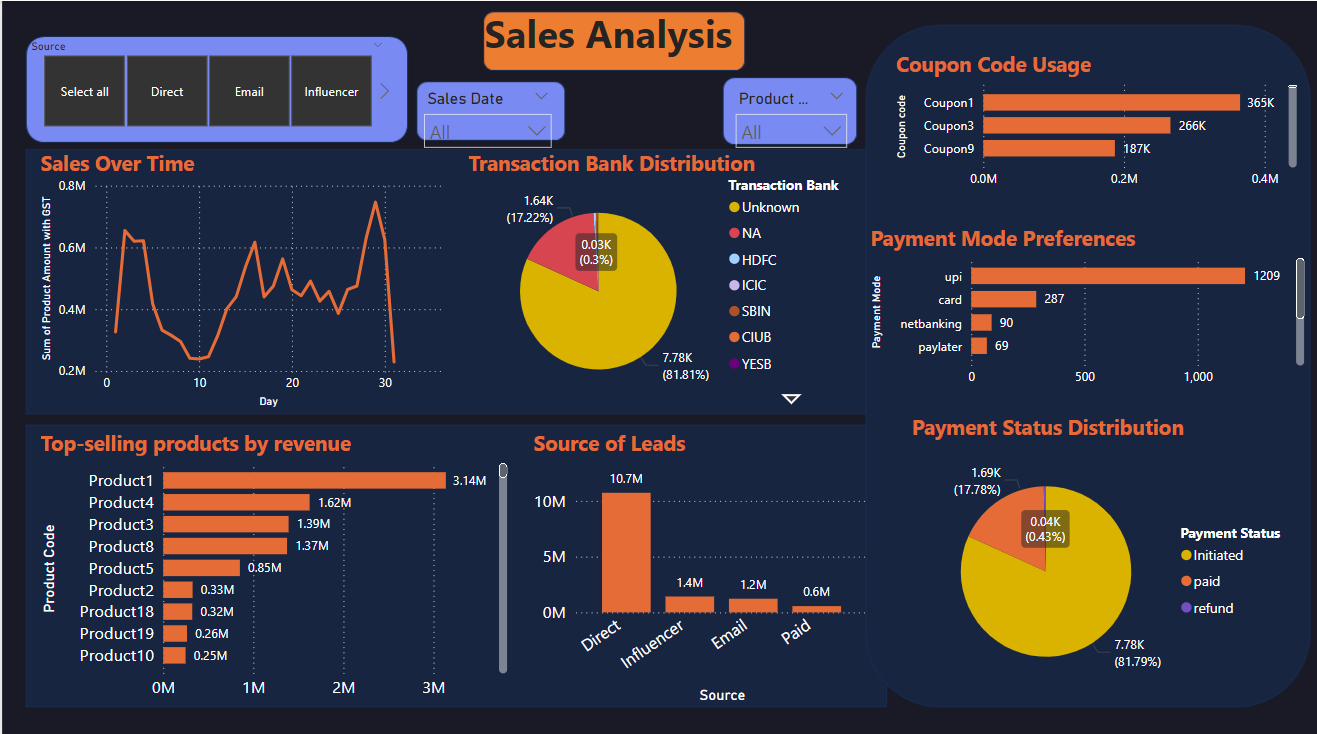

The dashboard page shown, as its layout file describes it:
{"tool":"powerbi","page":{"name":"Sales Data","canvas":[1280,720],"ordinal":0},"visuals":[{"type":"clusteredBarChart","title":"Top-selling products by revenue","fields":{"Category":["Sales data.Product Code"],"Y":["Sum(Sales data.Product Amount with GST)"]},"box":[32,416,464,272],"z":0},{"type":"pieChart","title":"Payment Status Distribution","fields":{"Category":["Sales data.Payment Status"],"Y":["CountNonNull(Sales data.User ID)"]},"box":[880,400,384,288],"z":1000},{"type":"lineChart","title":"Sales Over Time","fields":{"Y":["Sum(Sales data.Product Amount with GST)"],"Category":["Sales data.Sales Date.Variation.Date Hierarchy.Year","Sales data.Sales Date.Variation.Date Hierarchy.Quarter","Sales data.Sales Date.Variation.Date Hierarchy.Month","Sales data.Sales Date.Variation.Date Hierarchy.Day"]},"box":[32,144,400,256],"z":2000},{"type":"slicer","fields":{"Values":["Sales data.Source"]},"box":[32,48,368,96],"z":3000},{"type":"clusteredBarChart","title":"Coupon Code Usage","fields":{"Category":["Sales data.Coupon code"],"Y":["Sum(Sales data.Product Amount with GST)"]},"box":[864,48,400,144],"z":4000},{"type":"columnChart","title":"Source of Leads","fields":{"Category":["Sales data.Source"],"Y":["Sum(Sales data.Product Amount with GST)"]},"box":[512,416,336,272],"z":5000},{"type":"clusteredBarChart","title":"Payment Mode Preferences","fields":{"Category":["Sales data.Payment Mode"],"Y":["CountNonNull(Sales data.User ID)"]},"box":[840,216,432,168],"z":6000},{"type":"pieChart","title":"Transaction Bank Distribution","fields":{"Category":["Sales data.Transaction Bank"],"Y":["CountNonNull(Sales data.User ID)"]},"box":[448,144,384,256],"z":7000},{"type":"slicer","fields":{"Values":["Sales data.Sales Date"]},"box":[400,80,144,64],"z":8000},{"type":"slicer","fields":{"Values":["Sales data.Product Code"]},"box":[704,80,128,64],"z":9000},{"type":"textbox","box":[464,0,272,64],"z":10000}]}

Visuals, with their boxes in screenshot pixels (x1, y1, x2, y2), scaled from the page's 1280x720 canvas onto the 1317x734 screenshot:
"Top-selling products by revenue" clusteredBarChart: rect(33, 424, 510, 701)
"Payment Status Distribution" pieChart: rect(905, 408, 1301, 701)
"Sales Over Time" lineChart: rect(33, 147, 444, 408)
slicer - Sales data.Source: rect(33, 49, 412, 147)
"Coupon Code Usage" clusteredBarChart: rect(889, 49, 1301, 196)
"Source of Leads" columnChart: rect(527, 424, 873, 701)
"Payment Mode Preferences" clusteredBarChart: rect(864, 220, 1309, 391)
"Transaction Bank Distribution" pieChart: rect(461, 147, 856, 408)
slicer - Sales data.Sales Date: rect(412, 82, 560, 147)
slicer - Sales data.Product Code: rect(724, 82, 856, 147)
textbox: rect(477, 0, 757, 65)
